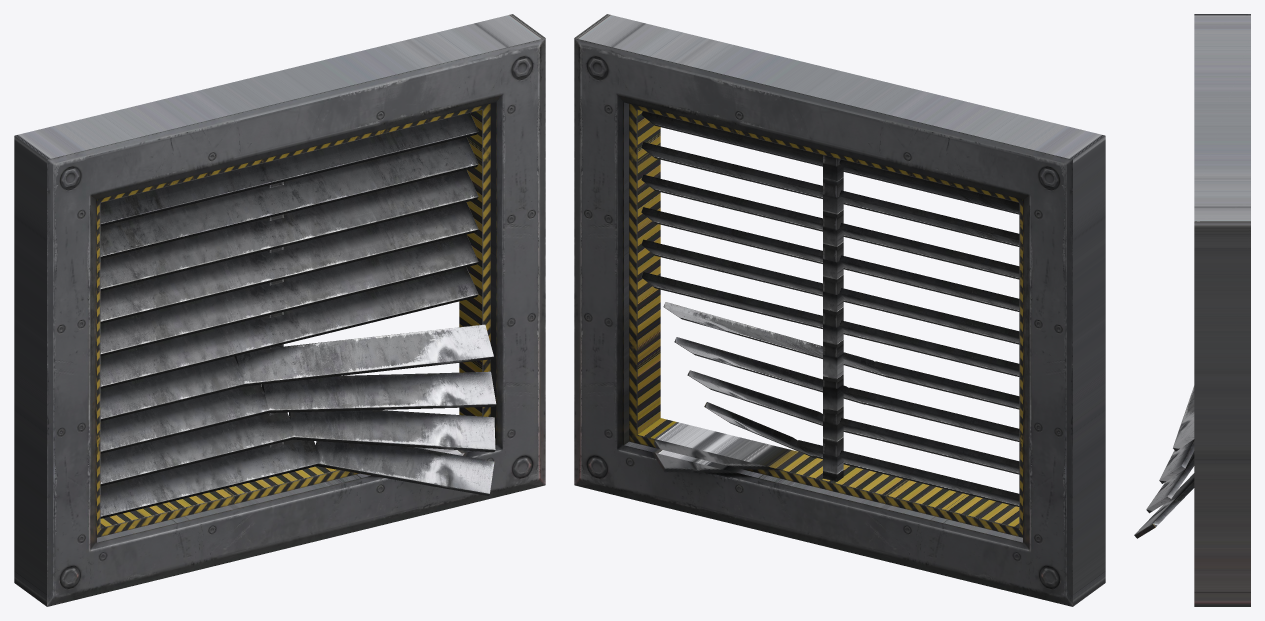
Rendered from kit_vent_cover.glb.
3 renders of one model, left to right at view 1: azimuth 30°, elevation 25°; view 2: azimuth 150°, elevation 25°; view 3: azimuth 270°, elevation 25°, orthographic. The views are drawn at different scales.
Visible parts, largest first — view 1: kit_vent_cover; view 2: kit_vent_cover; view 3: kit_vent_cover.
Boxes of the visible parts, x1,y1,x2,y2 form: kit_vent_cover: (14, 14, 545, 606); kit_vent_cover: (574, 14, 1105, 606); kit_vent_cover: (1134, 14, 1250, 606).
Size of the model in its own units: 3.5 by 3 by 0.8272.
1 material, 1 textured.
